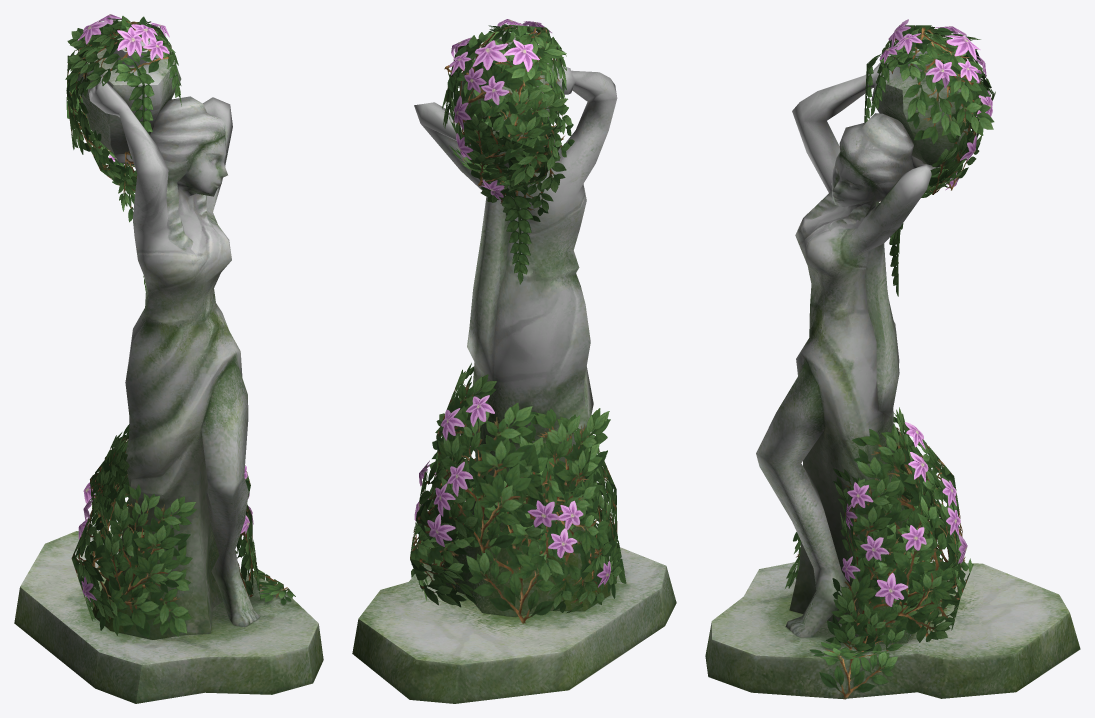
Rendered from syj_zxdiaoxiang01.FBX.
3 renders of one model, left to right at view 1: azimuth 30°, elevation 25°; view 2: azimuth 150°, elevation 25°; view 3: azimuth 270°, elevation 25°, orthographic. The views are drawn at different scales.
Visible parts, largest first — view 1: syj_zxdiaoxiang01; view 2: syj_zxdiaoxiang01; view 3: syj_zxdiaoxiang01.
Boxes of the visible parts, <box> form: syj_zxdiaoxiang01: <box>14,14,323,703</box>; syj_zxdiaoxiang01: <box>352,19,676,703</box>; syj_zxdiaoxiang01: <box>705,19,1080,699</box>.
Size of the model in its own units: 111 by 305 by 167.
